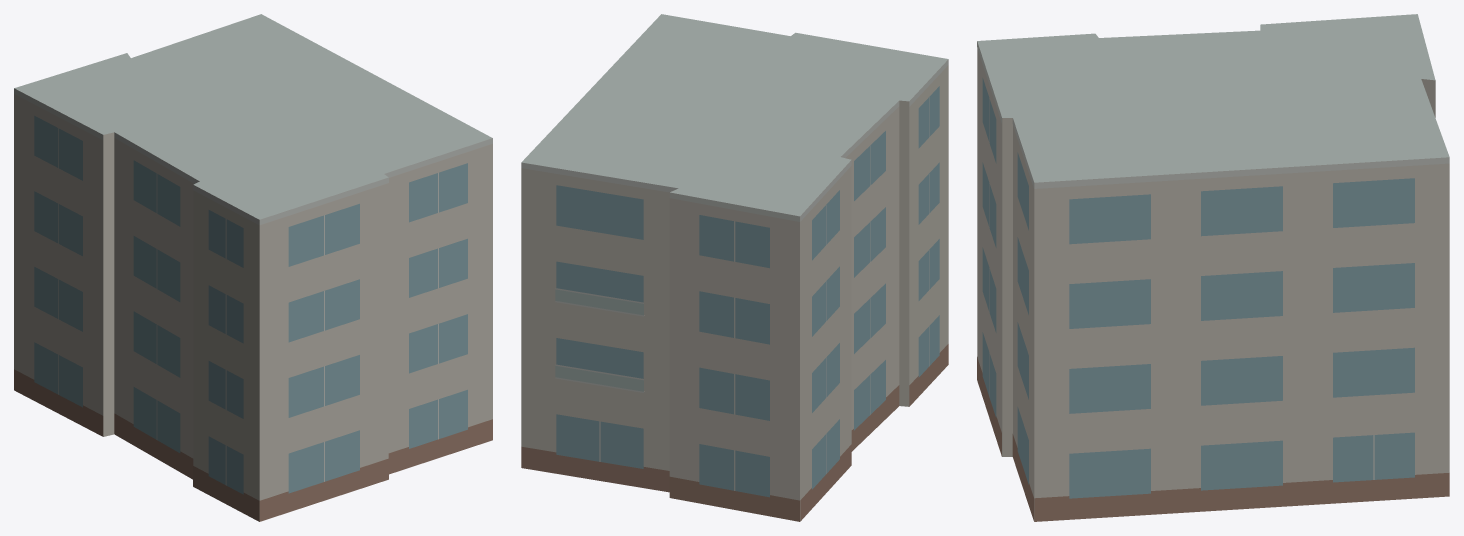
The model's file is survey-upis-32576989.glb.
The picture shows the model from 3 angles, left to right: view 1: azimuth 30°, elevation 25°; view 2: azimuth 150°, elevation 25°; view 3: azimuth 270°, elevation 25°; orthographic projection. The views are drawn at different scales.
Visible parts, largest first — view 1: survey-upis-32576989.tmp; view 2: survey-upis-32576989.tmp; view 3: survey-upis-32576989.tmp.
Part boxes in pixels (x1,y1,x2,y2): survey-upis-32576989.tmp: (14, 14, 492, 521); survey-upis-32576989.tmp: (521, 14, 948, 521); survey-upis-32576989.tmp: (977, 14, 1449, 521).
Size of the model in its own units: 14.09 by 13.2 by 16.68.
